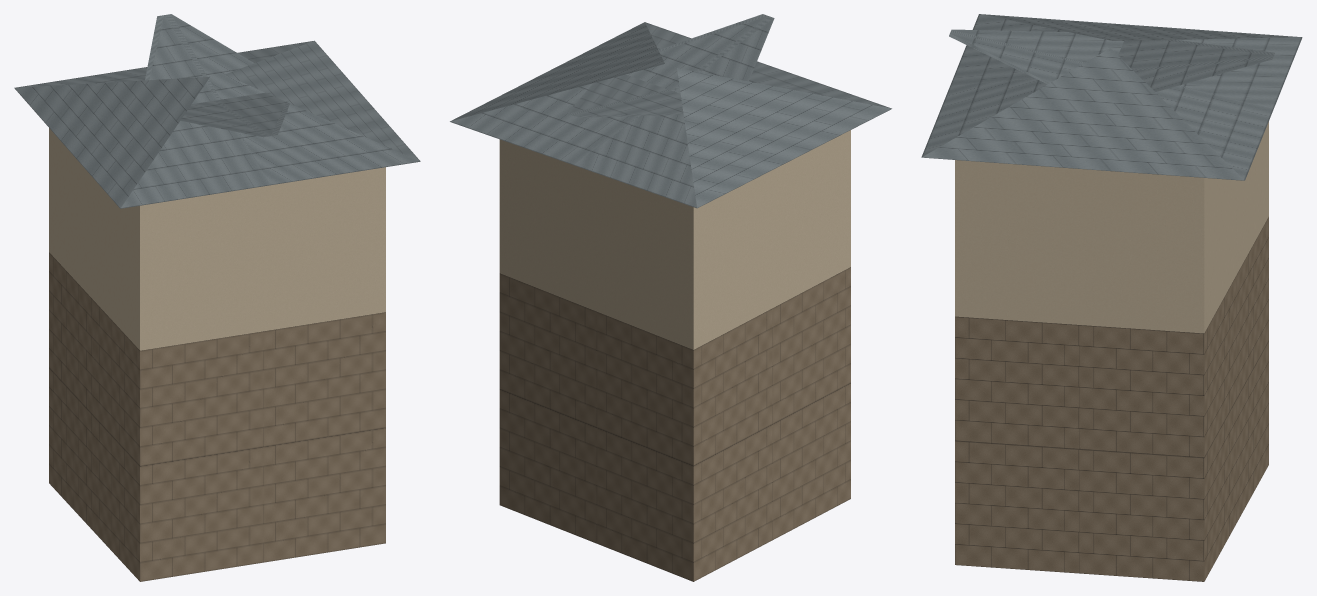
File: bld_c2_31_551.gltf
3 views of the same model, side by side, from view 1: azimuth 30°, elevation 25°; view 2: azimuth 150°, elevation 25°; view 3: azimuth 270°, elevation 25° (orthographic). The views are drawn at different scales.
Parts seen in each view (by area): view 1: bld_c2_31_551; view 2: bld_c2_31_551; view 3: bld_c2_31_551.
Boxes of the visible parts, x1=… form: bld_c2_31_551: x1=14, y1=14, x2=420, y2=581; bld_c2_31_551: x1=450, y1=14, x2=891, y2=581; bld_c2_31_551: x1=921, y1=14, x2=1302, y2=581.
Bounding box in the file's own units: 6.77 × 8.9 × 6.54.
Materials: 3 (3 with a texture image).
